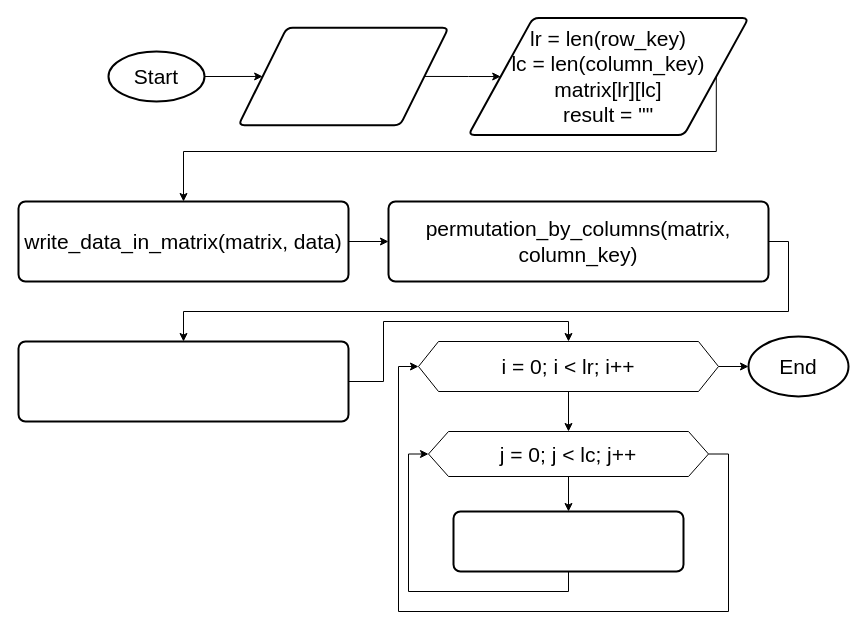
Image size: 866x637. Some labels were removed from this diagram. The box of each missing label's shape, as (x1, y1, x2, y2) in pixels:
data column_key row_key: (237, 26, 449, 126)
permutation_by_rows(matrix, row_key): (17, 340, 349, 422)
result += matrix[i][j]: (452, 510, 684, 572)
